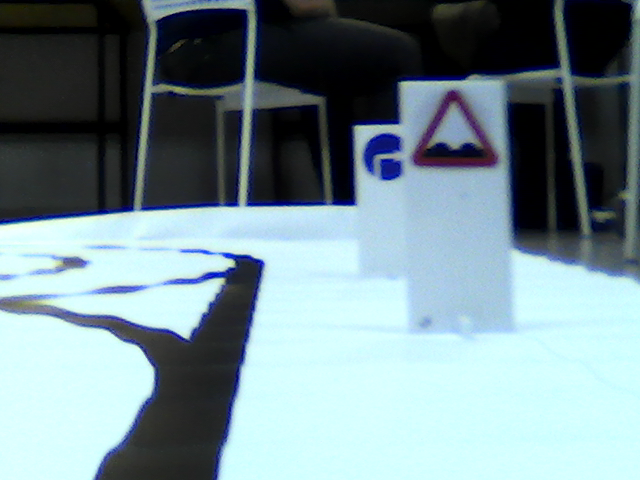Nerov: (407, 91, 501, 168)
Right: (364, 133, 403, 182)
